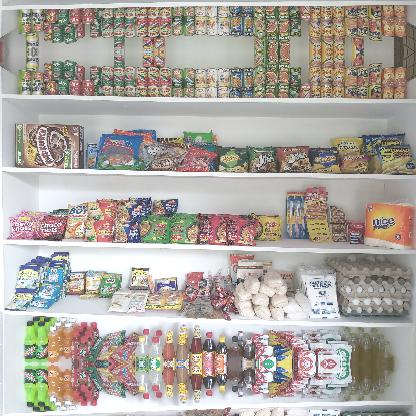Koko-Krunch: (16, 123, 84, 169)
